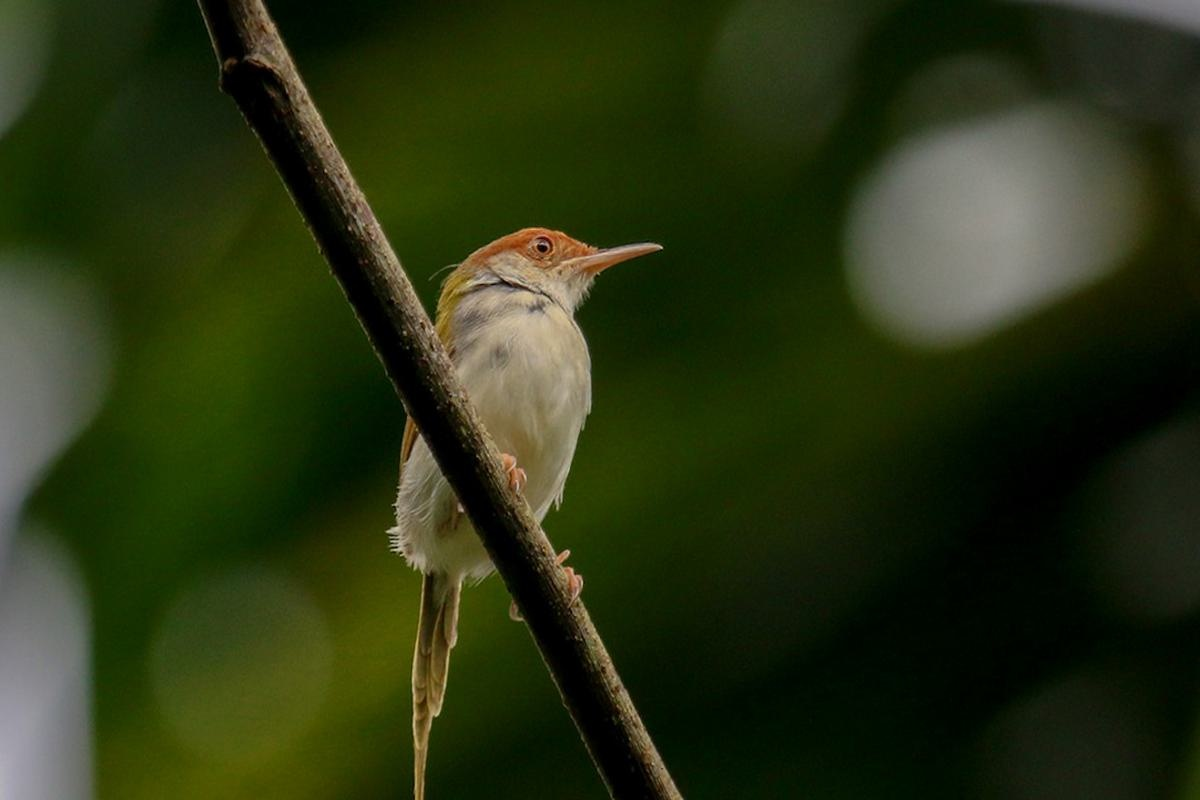tailorbird: (407, 201, 706, 655)
